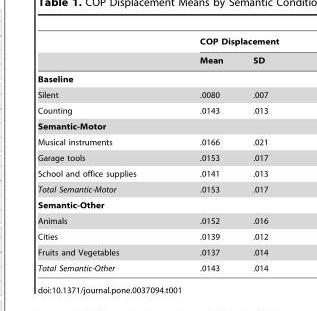table: (37, 36, 278, 272)
table column: (37, 36, 167, 272), (167, 36, 237, 272), (237, 36, 278, 272)
table column header: (37, 36, 278, 69)
table projected row header: (37, 69, 278, 86), (37, 118, 278, 134), (37, 197, 278, 212)
table row: (37, 50, 278, 69), (37, 69, 278, 86), (37, 86, 278, 102), (37, 102, 278, 118), (37, 118, 278, 134), (37, 149, 278, 165), (37, 165, 278, 181), (37, 181, 278, 197), (37, 212, 278, 228), (37, 228, 278, 244), (37, 244, 278, 260), (37, 134, 278, 149), (37, 197, 278, 212), (37, 36, 278, 50), (37, 260, 278, 272)
table spanning cell: (167, 36, 278, 50)
